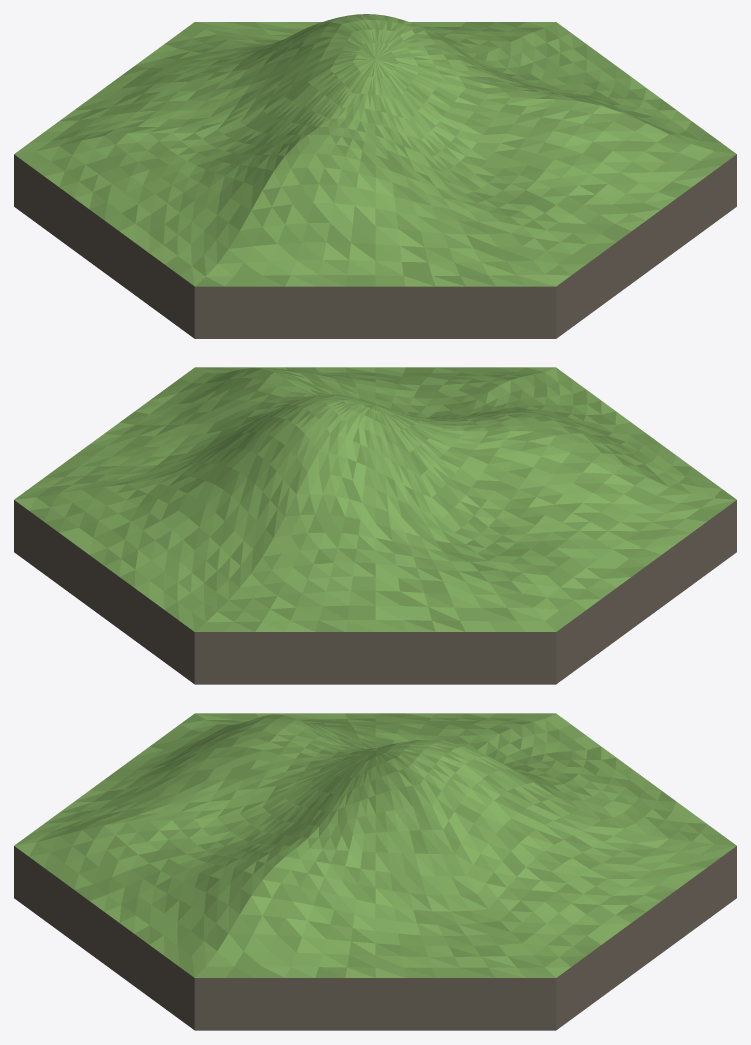
Rendered from TERRAIN_GRASS_HILLS_v01.fbx.
3 renders of one model, top to bottom at view 1: azimuth 30°, elevation 25°; view 2: azimuth 150°, elevation 25°; view 3: azimuth 270°, elevation 25°, orthographic.
Visible parts, largest first — view 1: TERRAIN_GRASS_HILLS_v01; view 2: TERRAIN_GRASS_HILLS_v01; view 3: TERRAIN_GRASS_HILLS_v01.
Boxes of the visible parts, left/top/right/bottom form: TERRAIN_GRASS_HILLS_v01: left=14, top=14, right=736, bottom=338; TERRAIN_GRASS_HILLS_v01: left=14, top=367, right=736, bottom=684; TERRAIN_GRASS_HILLS_v01: left=14, top=713, right=736, bottom=1030.
Size of the model in its own units: 173 by 49.43 by 200.
